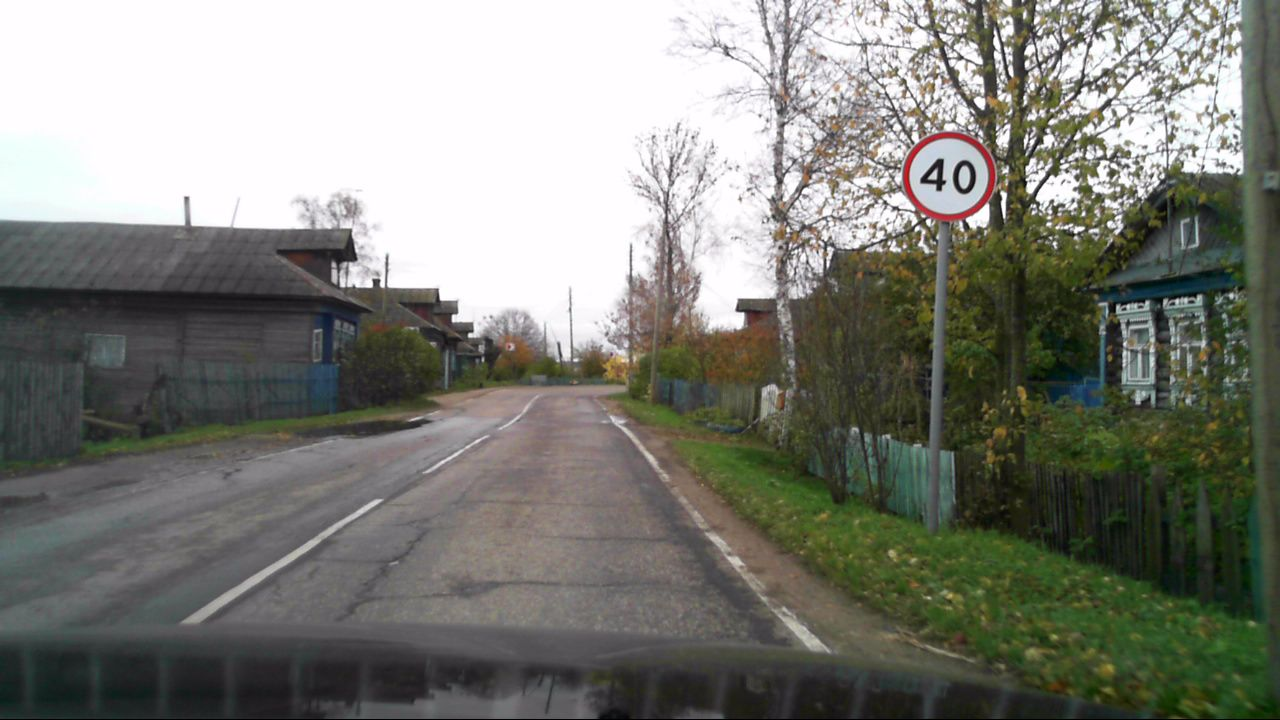speed_warning_40: (902, 132, 998, 220)
